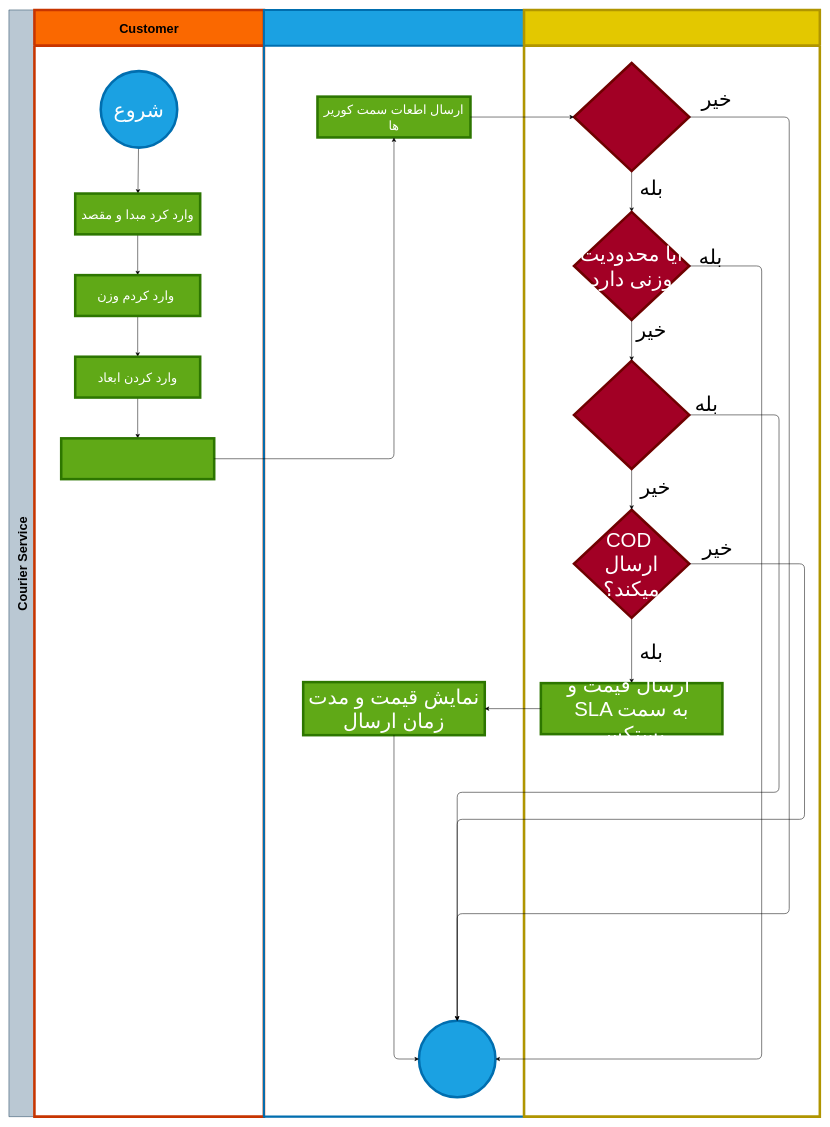
This 830x1127 diagram has some shape labels left out. Here are the shapes that lost their labels. From the top down, the box of each, then its label:
(572, 61, 690, 172): آیا در مبدا و مقصد نماینده دارد
(572, 359, 690, 470): آیا محدودیت ابعادی دارد
(60, 437, 215, 480): سفارش پرداخت در محل می باشد
(263, 9, 525, 1117): Postex
(522, 8, 821, 1118): Courier
(417, 1019, 496, 1098): پایان
